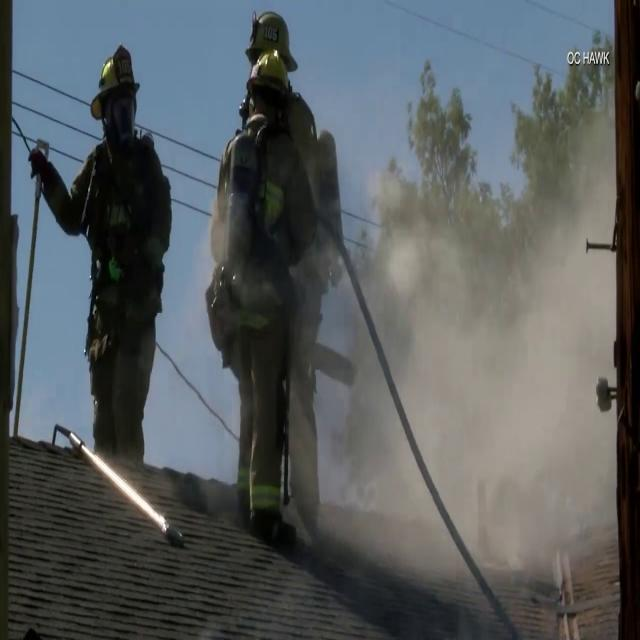Smoke: (322, 138, 618, 608)
